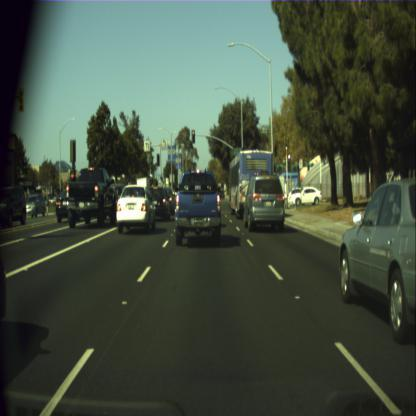Red: (192, 129, 194, 143), (274, 142, 276, 156)
RedLeft: (70, 170, 76, 193)
off: (156, 153, 160, 165)
